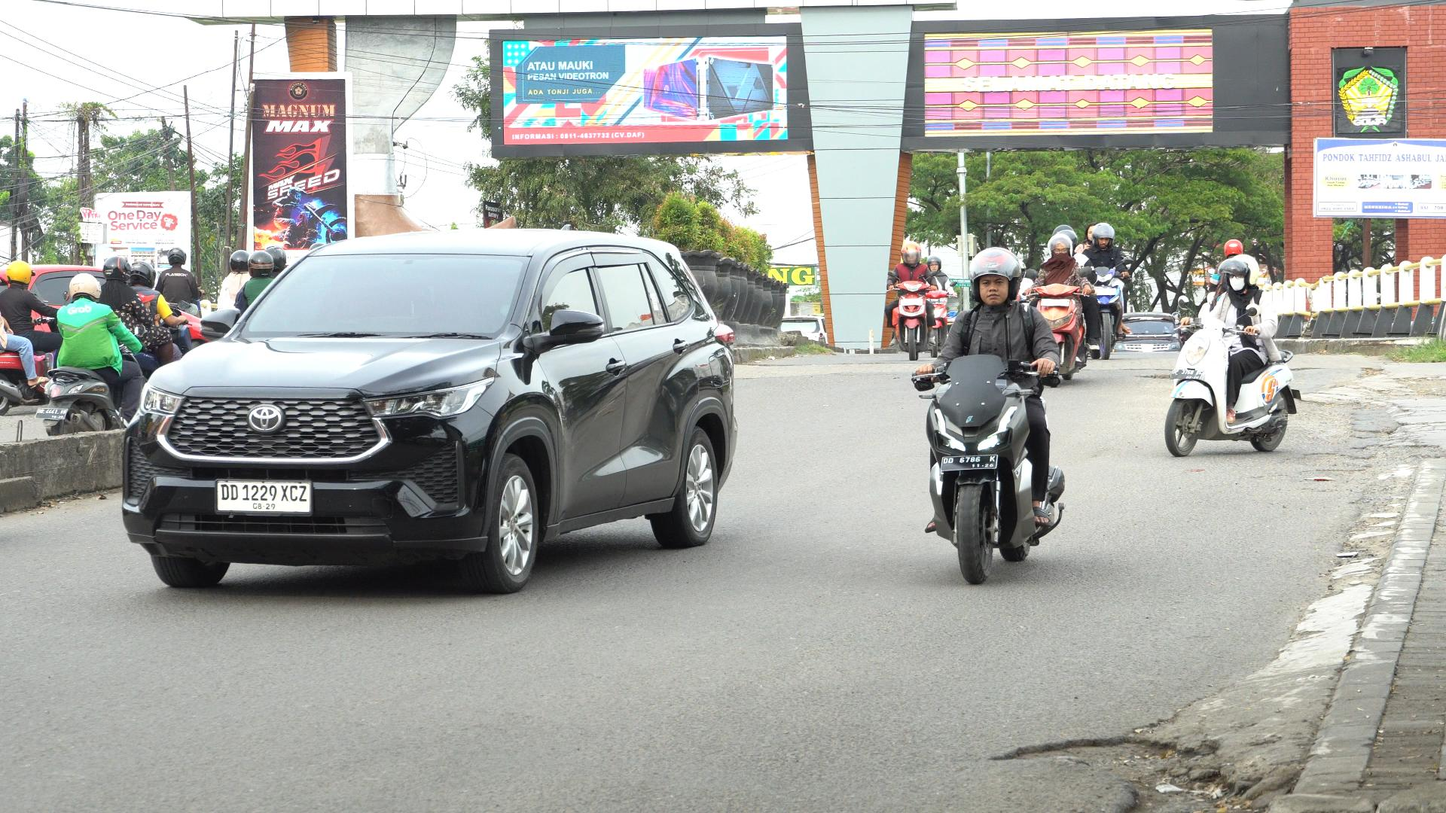number-plate: (940, 447, 1002, 473)
